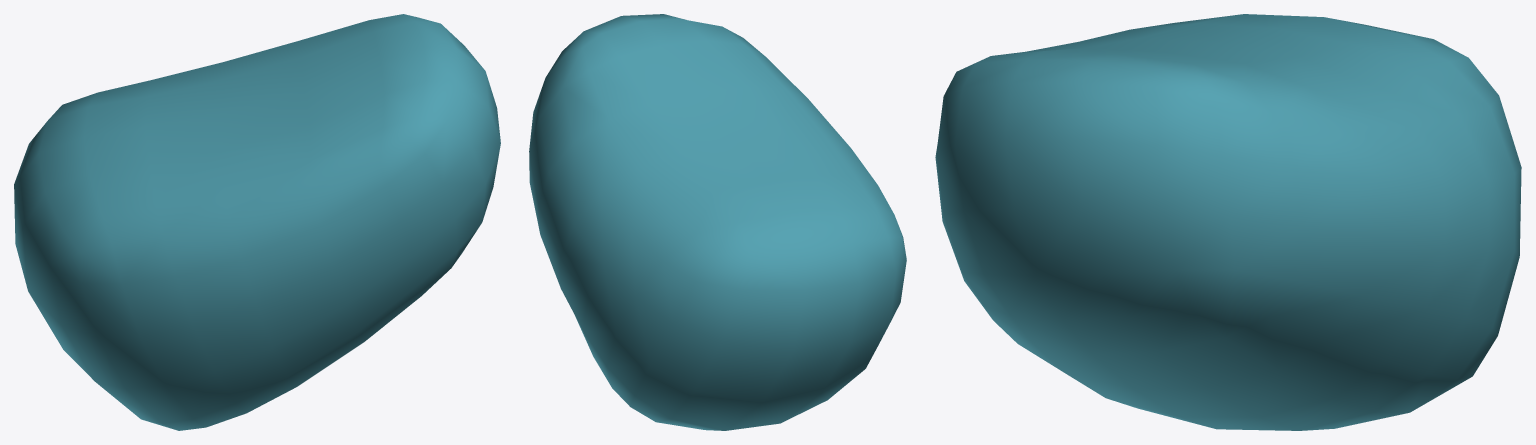
Rendered from VIS_Alpha_Surface_018.dae.
3 renders of one model, left to right at view 1: azimuth 30°, elevation 25°; view 2: azimuth 150°, elevation 25°; view 3: azimuth 270°, elevation 25°, orthographic. The views are drawn at different scales.
Parts seen in each view (by area): view 1: VIS_Alpha_Surface_018; view 2: VIS_Alpha_Surface_018; view 3: VIS_Alpha_Surface_018.
Boxes of the visible parts, bbox=[...] form: VIS_Alpha_Surface_018: bbox=[14, 14, 500, 430]; VIS_Alpha_Surface_018: bbox=[529, 14, 906, 430]; VIS_Alpha_Surface_018: bbox=[935, 14, 1521, 430].
Size of the model in its own units: 0.0302 by 0.028 by 0.0251.
